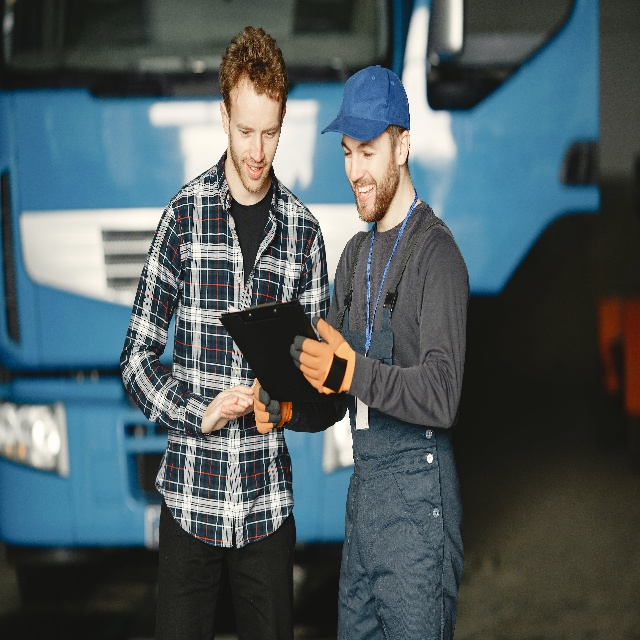Guantes: (291, 316, 349, 394), (254, 381, 281, 434)
Sin_guantes: (204, 382, 253, 433), (221, 400, 251, 421)
